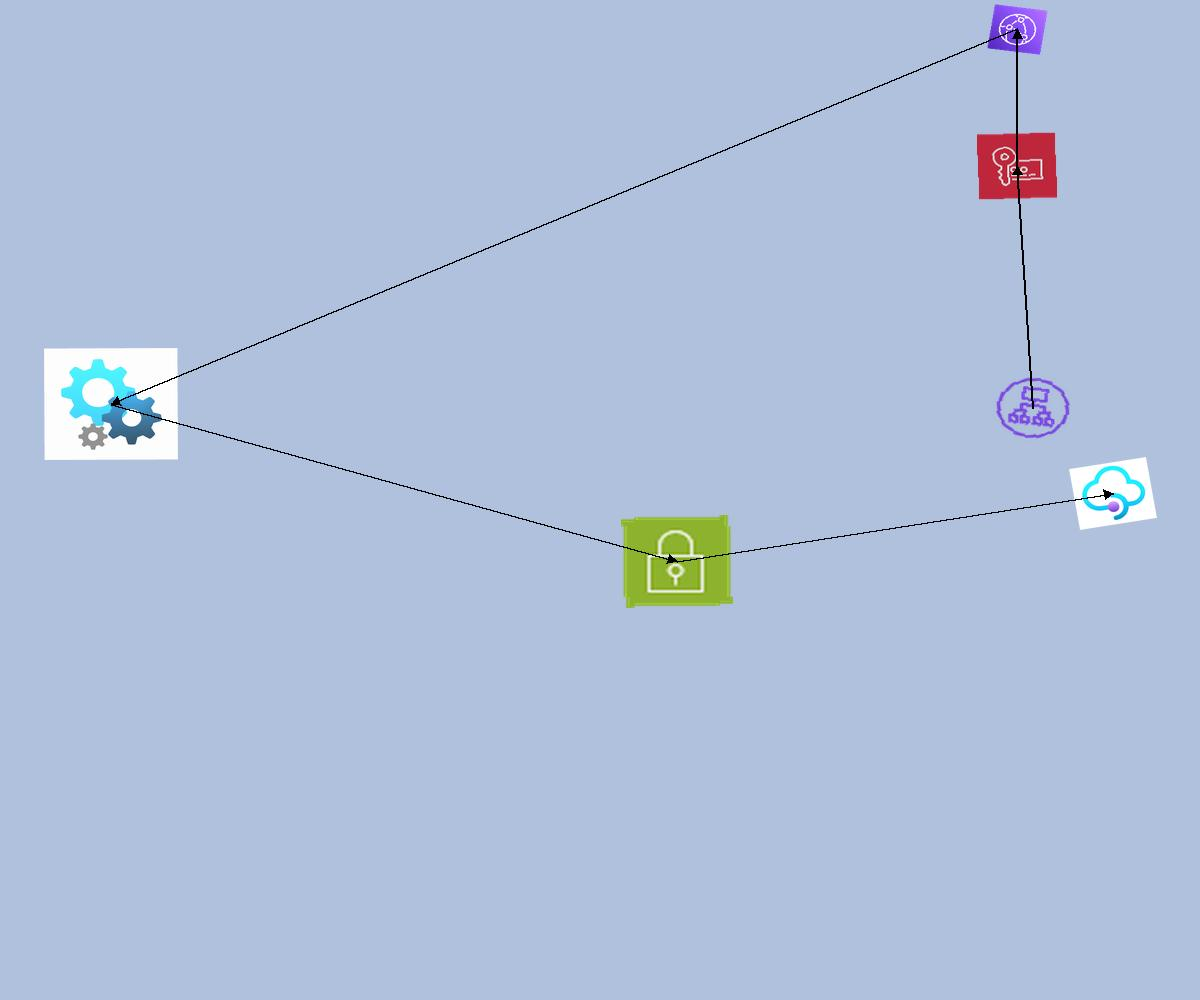AWS-CloudFront: (987, 4, 1048, 55)
AWS-Key-Management-Service: (976, 132, 1058, 200)
AWS-Public-subnet: (621, 515, 733, 608)
AWS-Res_Elastic-Load-Balancing_Application-Load-Balancer: (987, 370, 1079, 446)
Azure_api: (44, 348, 178, 460)
Azure_api_gateway: (1069, 457, 1157, 530)
